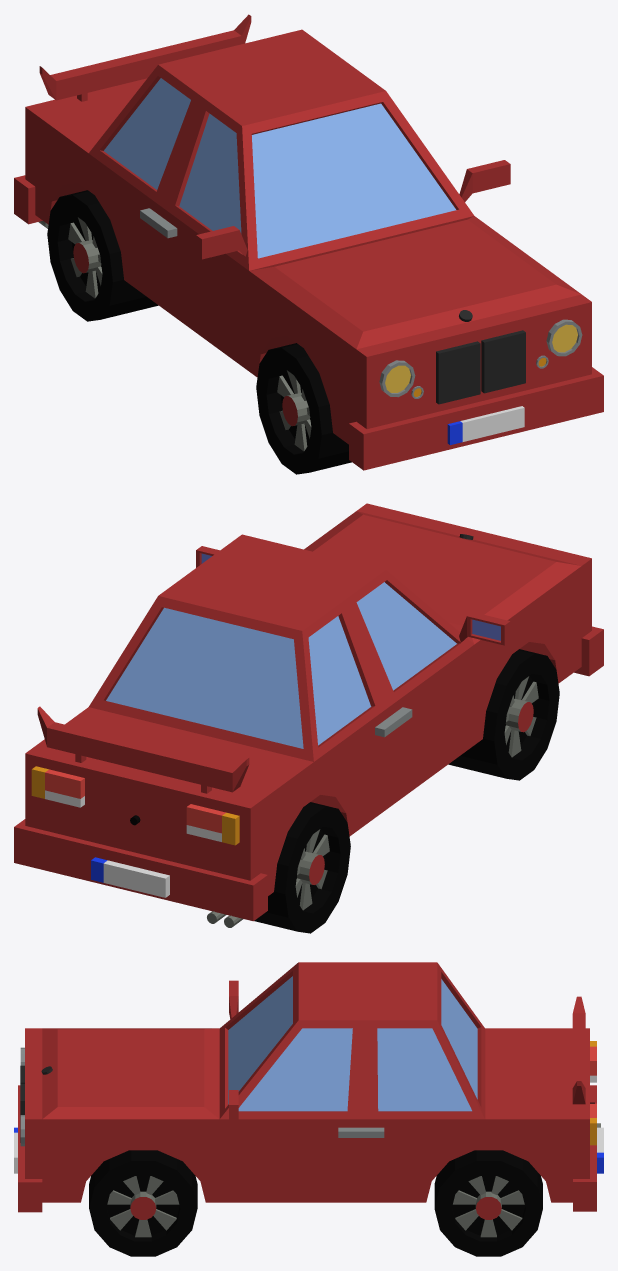
Rendered from auto1 - showcase export 1.glb.
3 views of the same model, one above another, from view 1: azimuth 30°, elevation 25°; view 2: azimuth 150°, elevation 25°; view 3: azimuth 270°, elevation 25° (orthographic). The views are drawn at different scales.
Parts seen in each view (by area): view 1: Auto, Achterwielen, Voorwielen, Cube.003, Cube.005, Spiegels, Koplampen, Cube; view 2: Auto, Voorwielen, Achterwielen, Cube.005, Cube.002, Cube.007, Spiegels, Cube.004; view 3: Auto, Voorwielen, Achterwielen, Cube.005, Spiegels, Cube.002, Cube.004.
Boxes of the visible parts, x1,y1,x2,y2 form: Auto: (14,29,603,470); Achterwielen: (47,190,158,321); Voorwielen: (256,343,351,474); Cube.003: (436,330,525,404); Cube.005: (39,14,251,100); Spiegels: (196,160,510,259); Koplampen: (379,319,582,397); Cube: (447,406,524,445); Auto: (14,503,603,921); Voorwielen: (448,649,559,780); Achterwielen: (254,802,350,933); Cube.005: (37,706,249,792); Cube.002: (31,766,239,845); Cube.007: (91,857,169,897); Spiegels: (196,546,510,645); Cube.004: (375,707,412,737); Auto: (18,962,596,1212); Voorwielen: (89,1150,197,1256); Achterwielen: (434,1150,542,1256); Cube.005: (572,996,585,1104); Spiegels: (229,980,238,1121); Cube.002: (590,1041,596,1145); Cube.004: (338,1127,384,1137).
Bounding box in the file's own units: 2.74 × 2.23 × 5.49.
